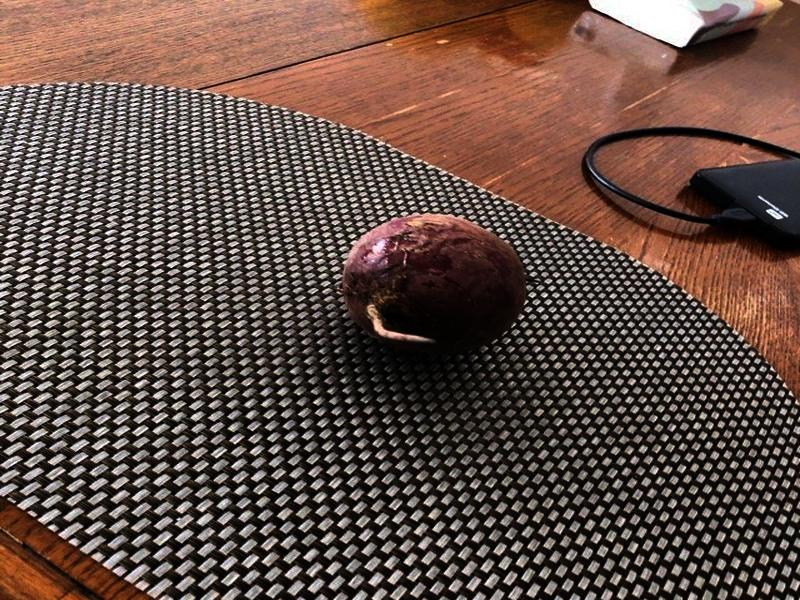Beet: (342, 214, 526, 353)
